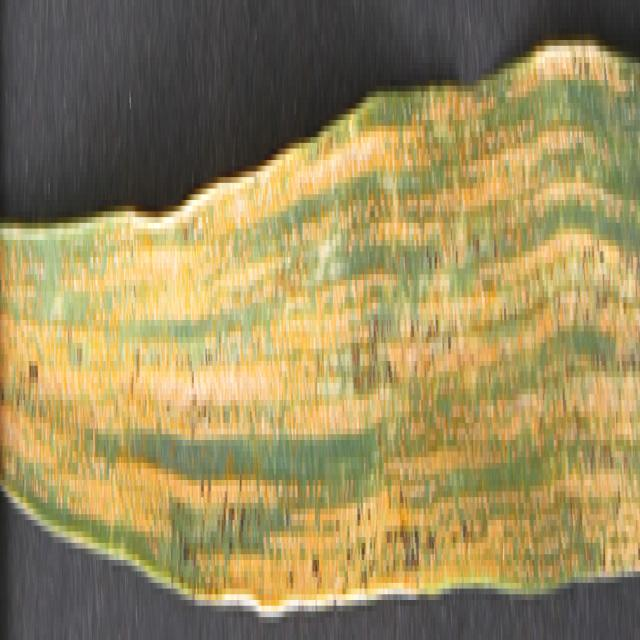leaf rust: (0, 91, 640, 588)
